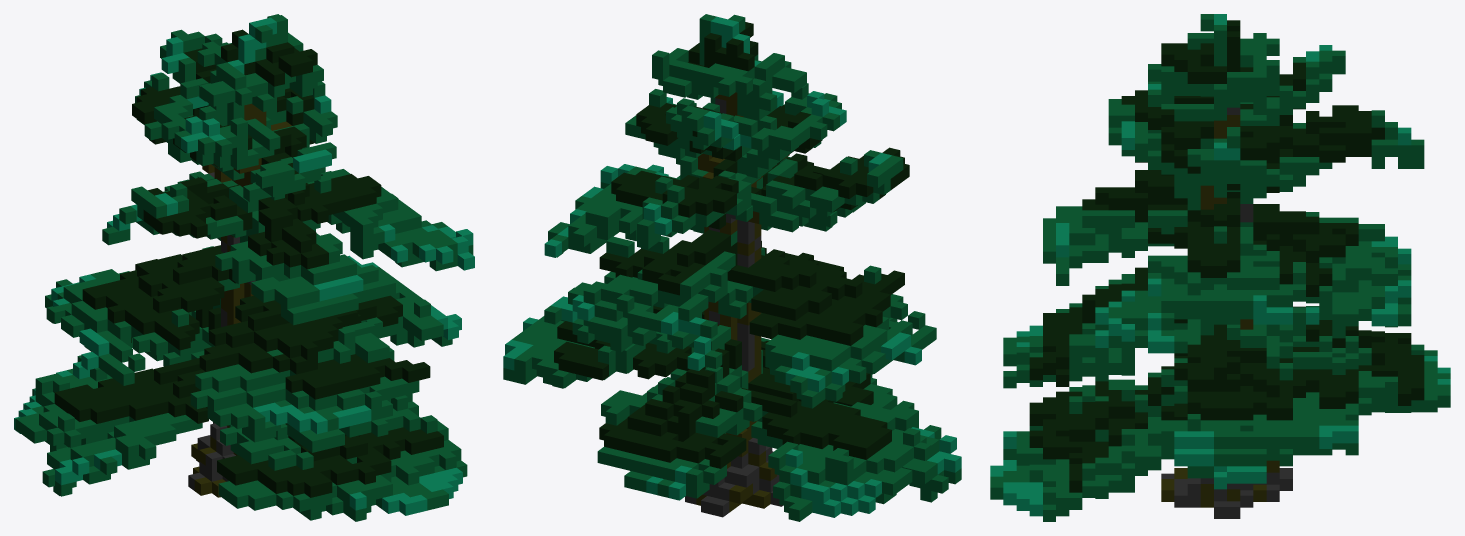
Rendered from PixelTree2.fbx.
3 views of the same model, side by side, from view 1: azimuth 30°, elevation 25°; view 2: azimuth 150°, elevation 25°; view 3: azimuth 270°, elevation 25° (orthographic). The views are drawn at different scales.
Visible parts, largest first — view 1: x40_tree01; view 2: x40_tree01; view 3: x40_tree01.
Part boxes in pixels (left/top/right/bottom): x40_tree01: left=14, top=14, right=474, bottom=521; x40_tree01: left=503, top=14, right=961, bottom=521; x40_tree01: left=990, top=14, right=1450, bottom=521.
Bounding box in the file's own units: 3800 × 4000 × 3500.
